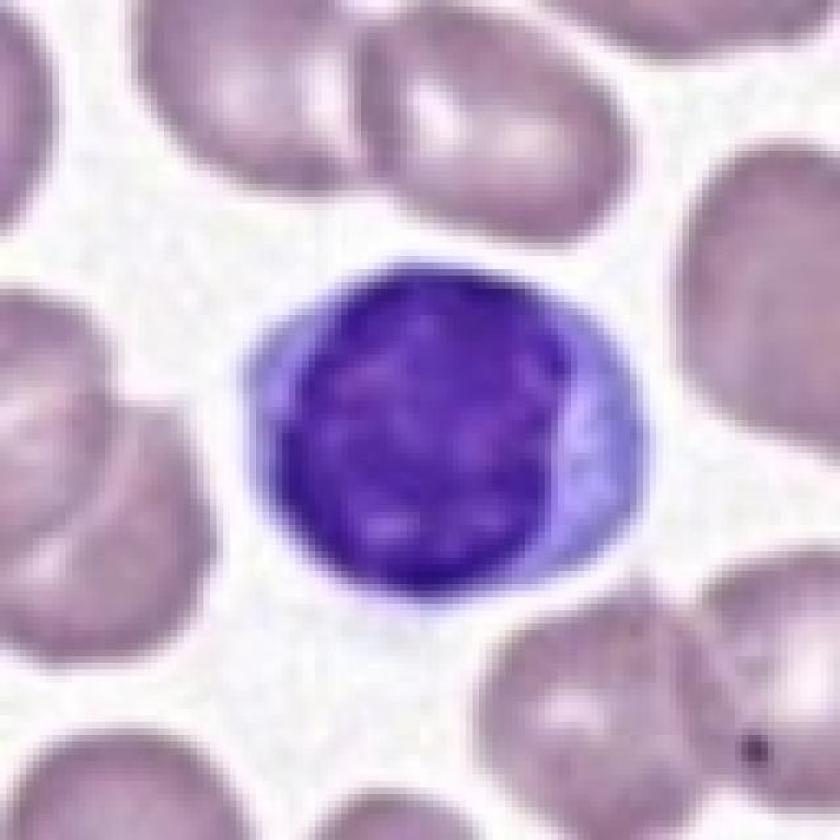lymphocyte: (237, 249, 656, 614)
